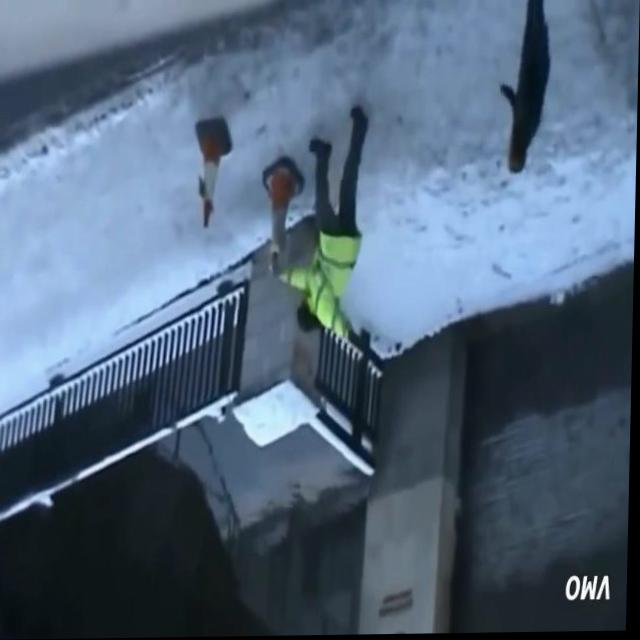fall: (279, 116, 366, 352)
